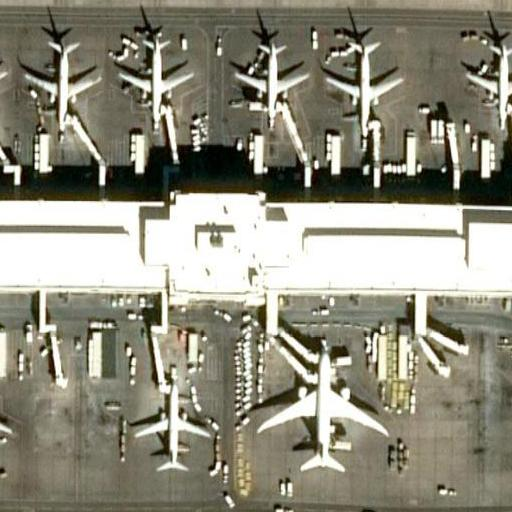Aircraft: (254, 330, 390, 475), (129, 372, 210, 477), (23, 27, 101, 132), (117, 30, 195, 133), (324, 35, 401, 135), (229, 37, 311, 129), (459, 31, 512, 130), (0, 375, 14, 471), (0, 20, 8, 132)
